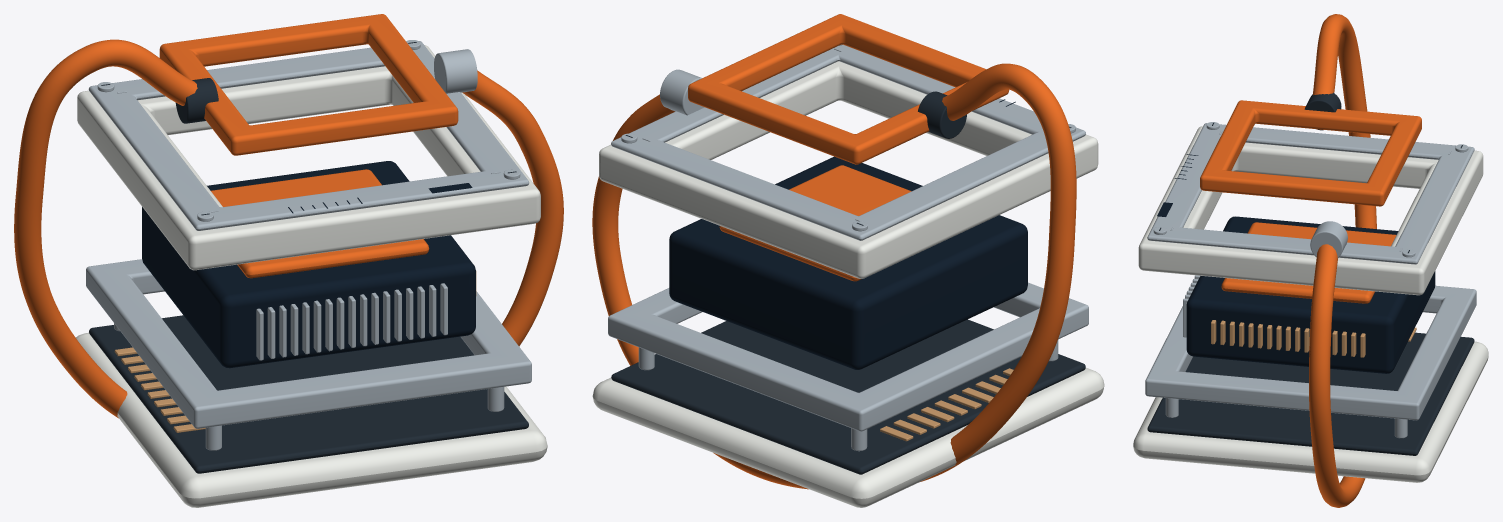
File: lab-signal-engine-01.glb
3 renders of one model, left to right at view 1: azimuth 30°, elevation 25°; view 2: azimuth 150°, elevation 25°; view 3: azimuth 270°, elevation 25°, orthographic. The views are drawn at different scales.
Parts seen in each view (by area): view 1: SIGNAL ENGINE | MDL | satin aluminium, SIGNAL ENGINE | MDL | porcelain, SIGNAL ENGINE | MDL | signal enamel, SIGNAL ENGINE | MDL | graphite elastomer, SIGNAL ENGINE | MDL | ink graphite, SIGNAL ENGINE | MDL | copper contacts; view 2: SIGNAL ENGINE | MDL | porcelain, SIGNAL ENGINE | MDL | satin aluminium, SIGNAL ENGINE | MDL | signal enamel, SIGNAL ENGINE | MDL | ink graphite, SIGNAL ENGINE | MDL | graphite elastomer, SIGNAL ENGINE | MDL | copper contacts; view 3: SIGNAL ENGINE | MDL | porcelain, SIGNAL ENGINE | MDL | satin aluminium, SIGNAL ENGINE | MDL | signal enamel, SIGNAL ENGINE | MDL | ink graphite, SIGNAL ENGINE | MDL | graphite elastomer, SIGNAL ENGINE | MDL | copper contacts.
Boxes of the visible parts, left/top/right/bottom form: SIGNAL ENGINE | MDL | satin aluminium: left=86, top=40, right=531, bottom=450; SIGNAL ENGINE | MDL | porcelain: left=76, top=45, right=547, bottom=507; SIGNAL ENGINE | MDL | signal enamel: left=14, top=14, right=563, bottom=418; SIGNAL ENGINE | MDL | graphite elastomer: left=89, top=42, right=528, bottom=473; SIGNAL ENGINE | MDL | ink graphite: left=142, top=161, right=475, bottom=368; SIGNAL ENGINE | MDL | copper contacts: left=114, top=271, right=476, bottom=432; SIGNAL ENGINE | MDL | porcelain: left=592, top=61, right=1104, bottom=507; SIGNAL ENGINE | MDL | satin aluminium: left=608, top=44, right=1088, bottom=451; SIGNAL ENGINE | MDL | signal enamel: left=592, top=14, right=1076, bottom=489; SIGNAL ENGINE | MDL | ink graphite: left=669, top=99, right=1027, bottom=369; SIGNAL ENGINE | MDL | graphite elastomer: left=611, top=91, right=1085, bottom=474; SIGNAL ENGINE | MDL | copper contacts: left=880, top=368, right=1013, bottom=441; SIGNAL ENGINE | MDL | porcelain: left=1133, top=126, right=1488, bottom=482; SIGNAL ENGINE | MDL | satin aluminium: left=1145, top=122, right=1476, bottom=438; SIGNAL ENGINE | MDL | signal enamel: left=1200, top=14, right=1421, bottom=507; SIGNAL ENGINE | MDL | ink graphite: left=1157, top=154, right=1435, bottom=373; SIGNAL ENGINE | MDL | graphite elastomer: left=1147, top=92, right=1474, bottom=455; SIGNAL ENGINE | MDL | copper contacts: left=1211, top=320, right=1416, bottom=357.
Size of the model in its own units: 3.97 by 3.48 by 2.98.
